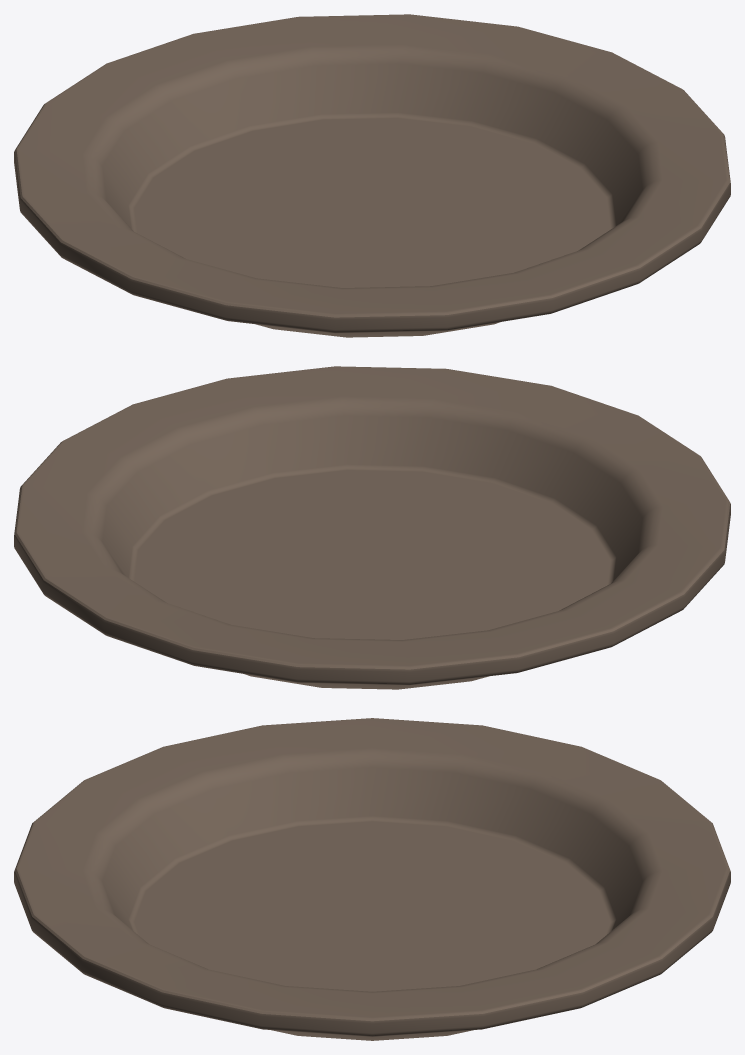
Rendered from Plate.fbx.
3 views of the same model, one above another, from view 1: azimuth 30°, elevation 25°; view 2: azimuth 150°, elevation 25°; view 3: azimuth 270°, elevation 25° (orthographic).
Visible parts, largest first — view 1: Plate; view 2: Plate; view 3: Plate.
Part boxes in pixels (box(x1,y1,x2,y2)): Plate: box(14, 14, 730, 337); Plate: box(14, 366, 730, 689); Plate: box(14, 718, 730, 1040).
Bounding box in the file's own units: 0.2963 × 0.0322 × 0.2963.
